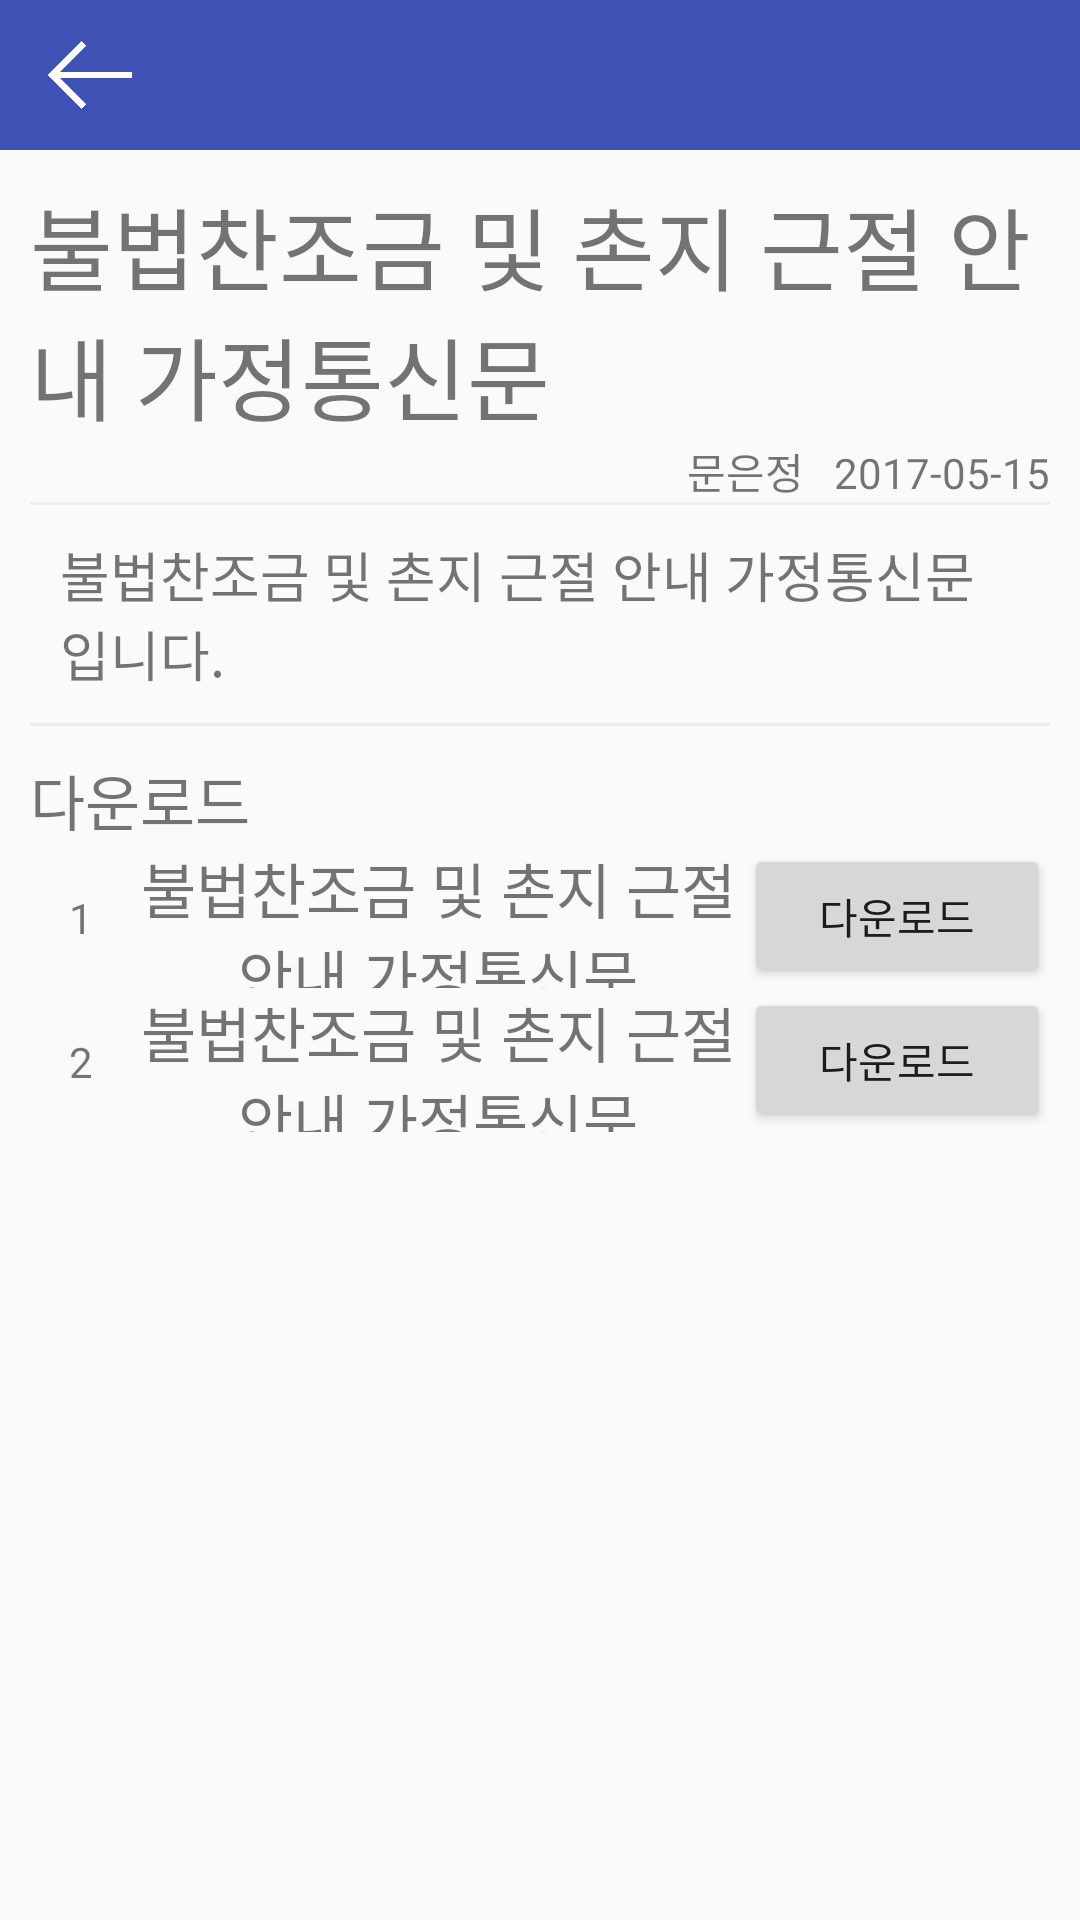

Icon click points for this 1080×1920 phone screenshot, format (x,y):
back: (90,75)
